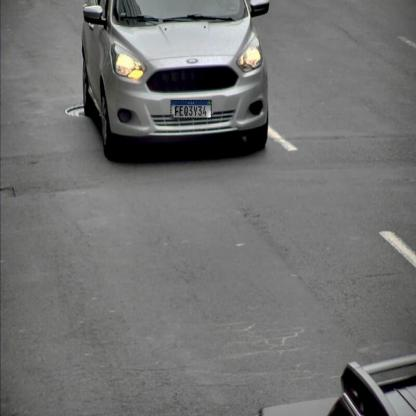PlacaM: (170, 100, 212, 118)
